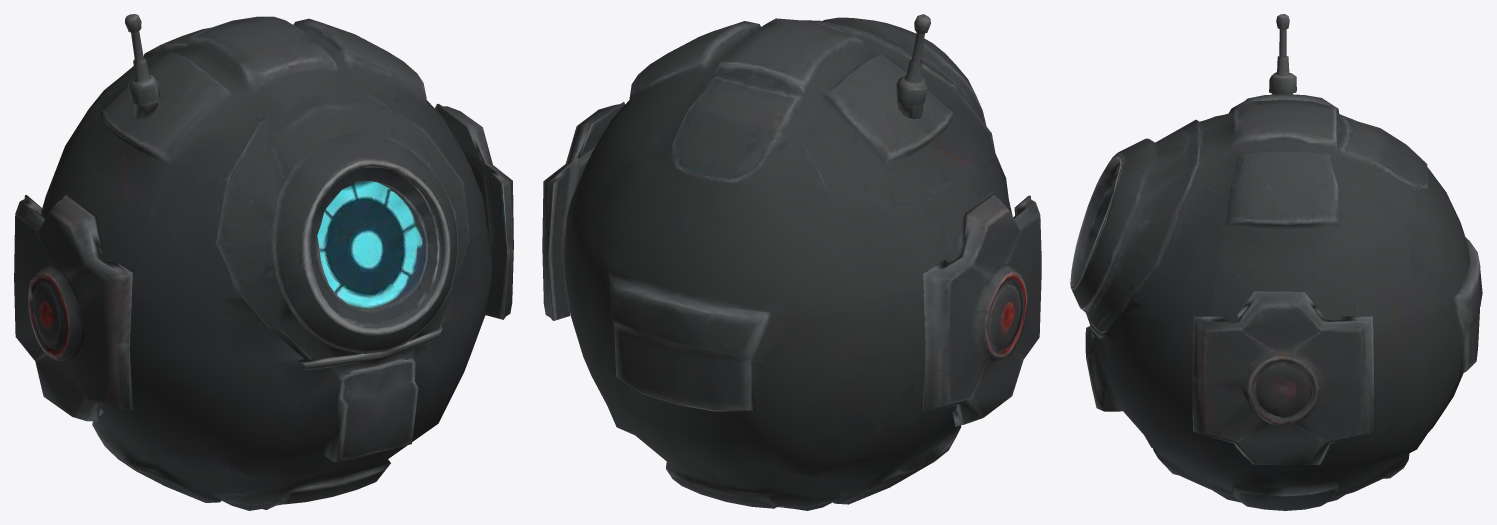
Rendered from s_ball.glb.
The picture shows the model from 3 angles, left to right: view 1: azimuth 30°, elevation 25°; view 2: azimuth 150°, elevation 25°; view 3: azimuth 270°, elevation 25°; orthographic projection. The views are drawn at different scales.
Size of the model in its own units: 0.855 by 0.9512 by 0.8389.
1 material, 1 textured.
